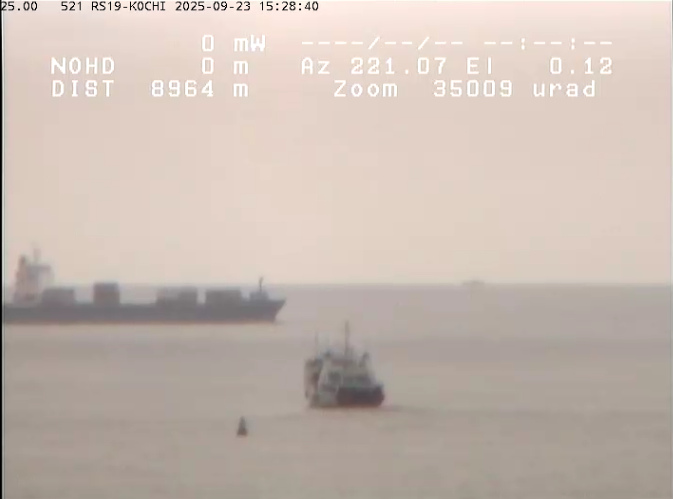CARGO_SHIPS: (1, 242, 299, 338)
TUGS: (277, 319, 434, 434)
